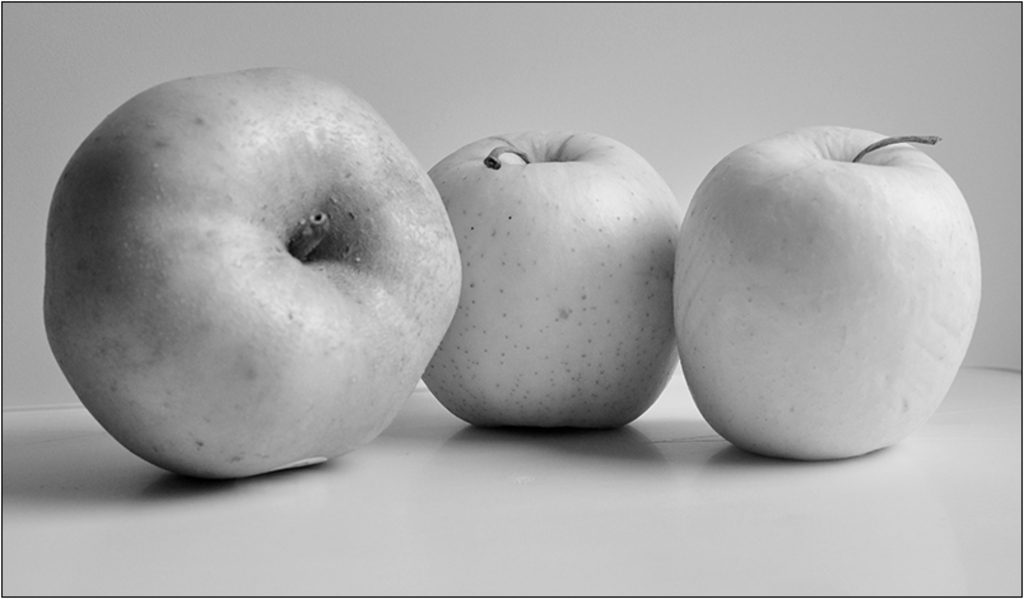Apple: (38, 71, 463, 483), (649, 121, 983, 466), (424, 121, 686, 433)
